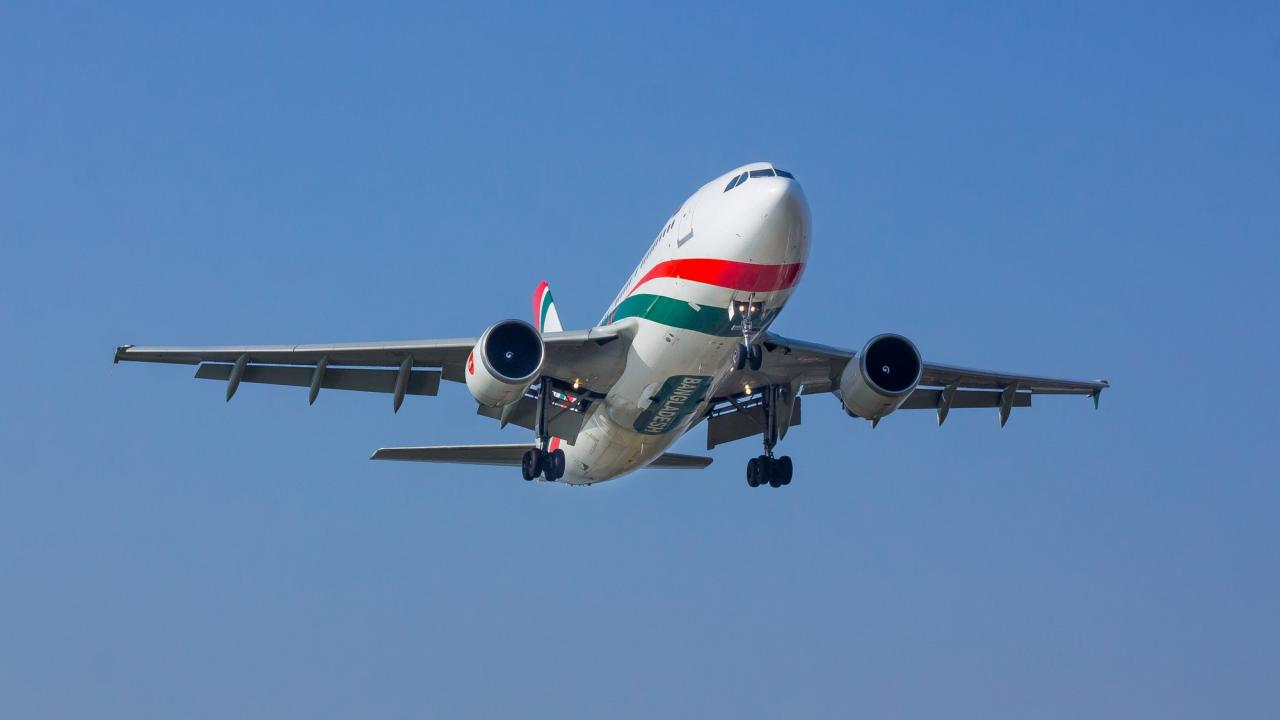Airplane: (101, 148, 1118, 502)
